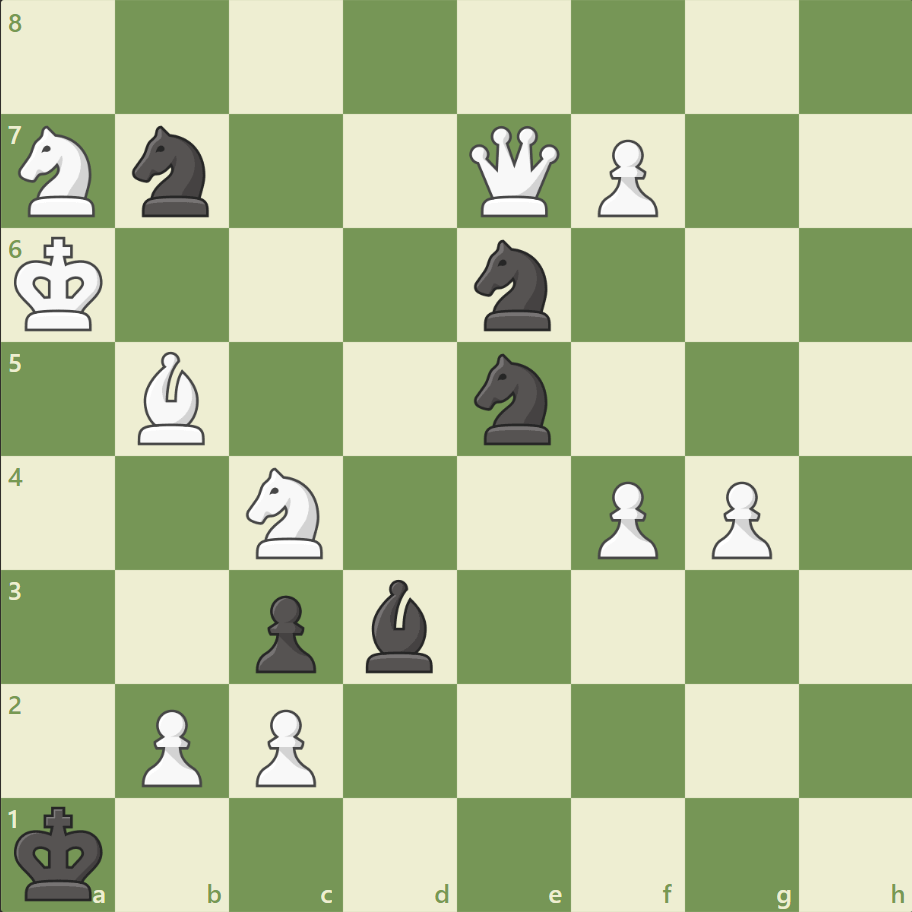B: (131, 347, 215, 449)
K: (11, 231, 111, 339)
N: (238, 461, 335, 564), (11, 121, 108, 223)
P: (701, 473, 776, 564), (133, 700, 208, 791), (247, 700, 322, 791), (588, 132, 662, 223), (588, 473, 662, 564)
Q: (464, 122, 563, 222)
b: (358, 574, 442, 676)
k: (11, 798, 111, 906)
n: (124, 121, 222, 223), (465, 234, 562, 337), (465, 348, 562, 450)
p: (247, 586, 322, 677)
